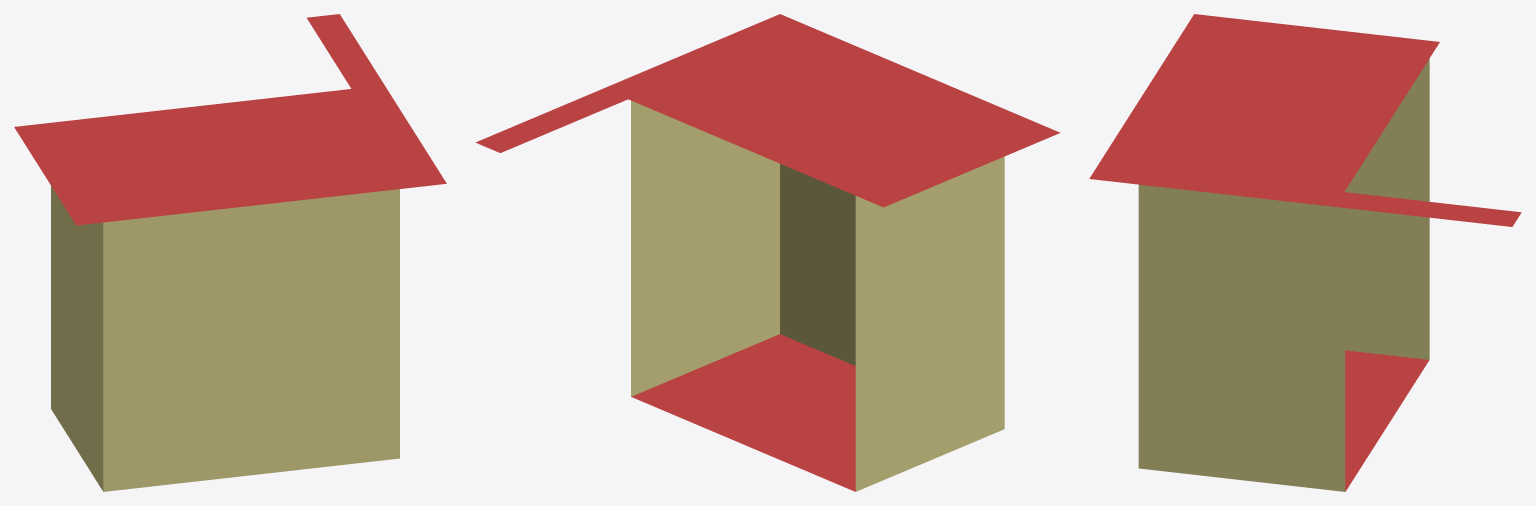
The picture shows the model from 3 angles, left to right: view 1: azimuth 30°, elevation 25°; view 2: azimuth 150°, elevation 25°; view 3: azimuth 270°, elevation 25°; orthographic projection. The views are drawn at different scales.
Size of the model in its own units: 6.26 by 5.37 by 4.13.
